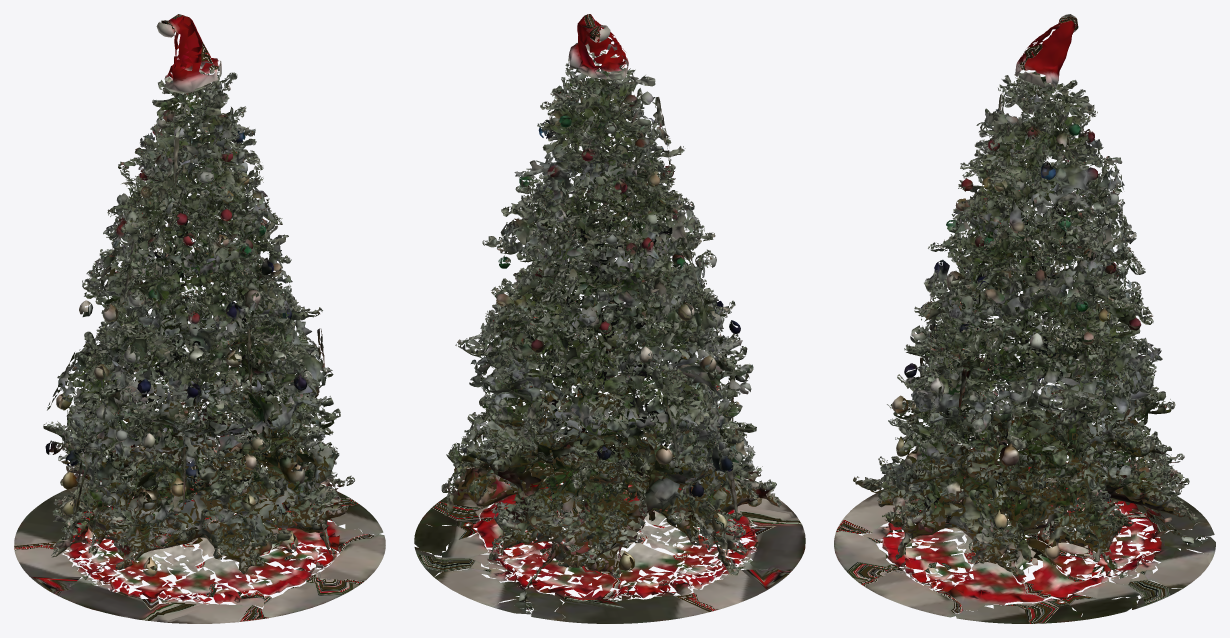
Rendered from sapin.glb.
3 renders of one model, left to right at view 1: azimuth 30°, elevation 25°; view 2: azimuth 150°, elevation 25°; view 3: azimuth 270°, elevation 25°, orthographic. The views are drawn at different scales.
Visible parts, largest first — view 1: Object_2; view 2: Object_2; view 3: Object_2.
Part boxes in pixels (x1,y1,x2,y2): Object_2: (14,14,385,623); Object_2: (414,14,805,623); Object_2: (834,14,1215,623).
Bounding box in the file's own units: 1487 × 2276 × 1496.
1 material, 1 textured.
